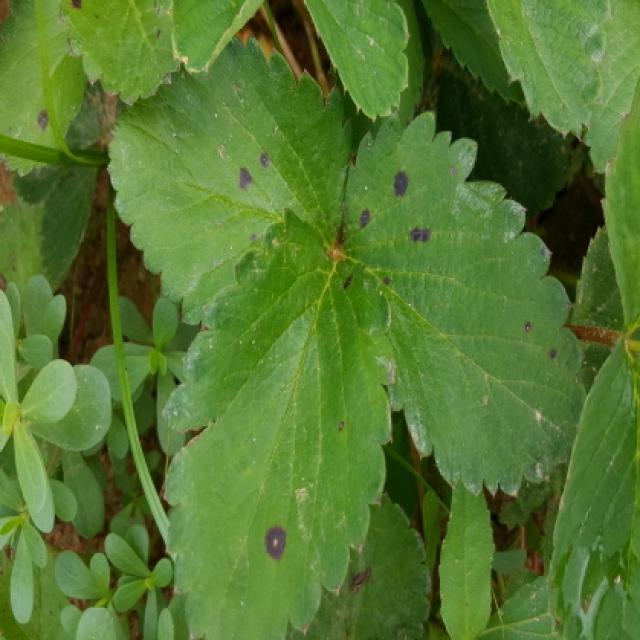Leaf Spot: (162, 204, 400, 638), (338, 107, 585, 501), (104, 36, 357, 326), (68, 0, 266, 110), (0, 0, 86, 178)
